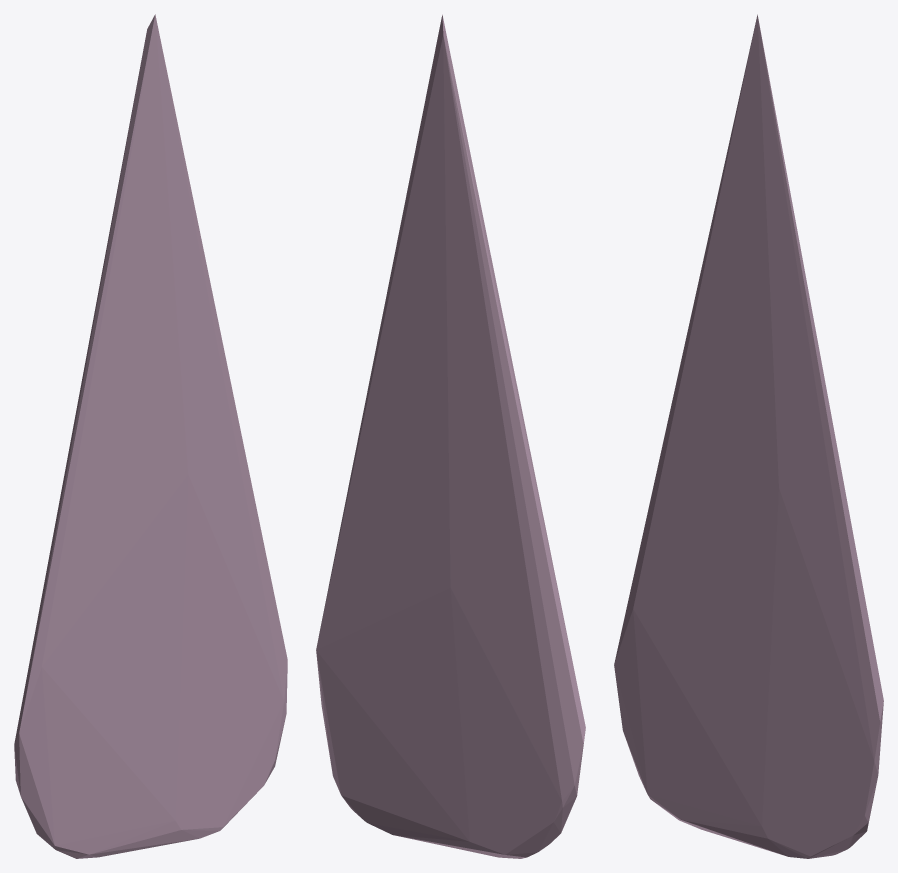
The model's file is utensils_scissors_j01.glb.
3 renders of one model, left to right at view 1: azimuth 30°, elevation 25°; view 2: azimuth 150°, elevation 25°; view 3: azimuth 330°, elevation 25°, orthographic.
Parts seen in each view (by area): view 1: geometry_0; view 2: geometry_0; view 3: geometry_0.
Part boxes in pixels (<box>): geometry_0: <box>14,14,287,858</box>; geometry_0: <box>316,14,585,858</box>; geometry_0: <box>614,14,883,858</box>.
Bounding box in the file's own units: 0.1621 × 0.4793 × 0.0154.
